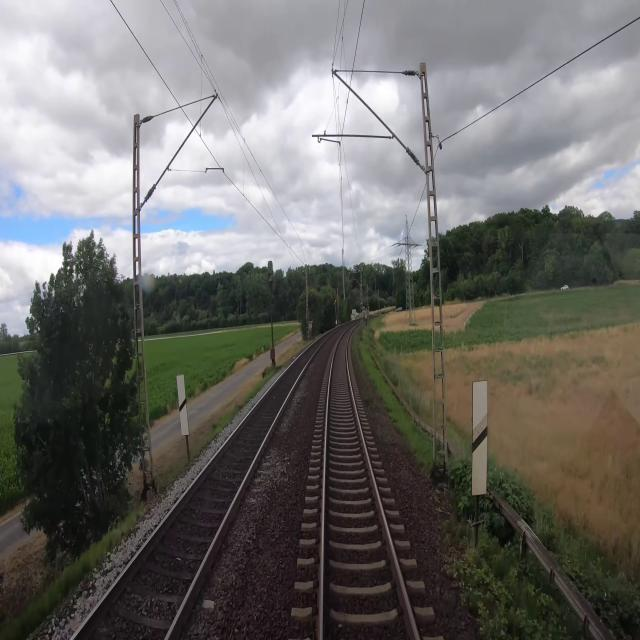Plant: (440, 505, 536, 639)
